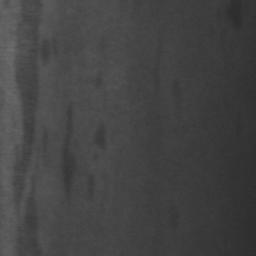Inclusion: (13, 0, 42, 216), (17, 197, 45, 256), (64, 147, 78, 191), (95, 128, 108, 150)
